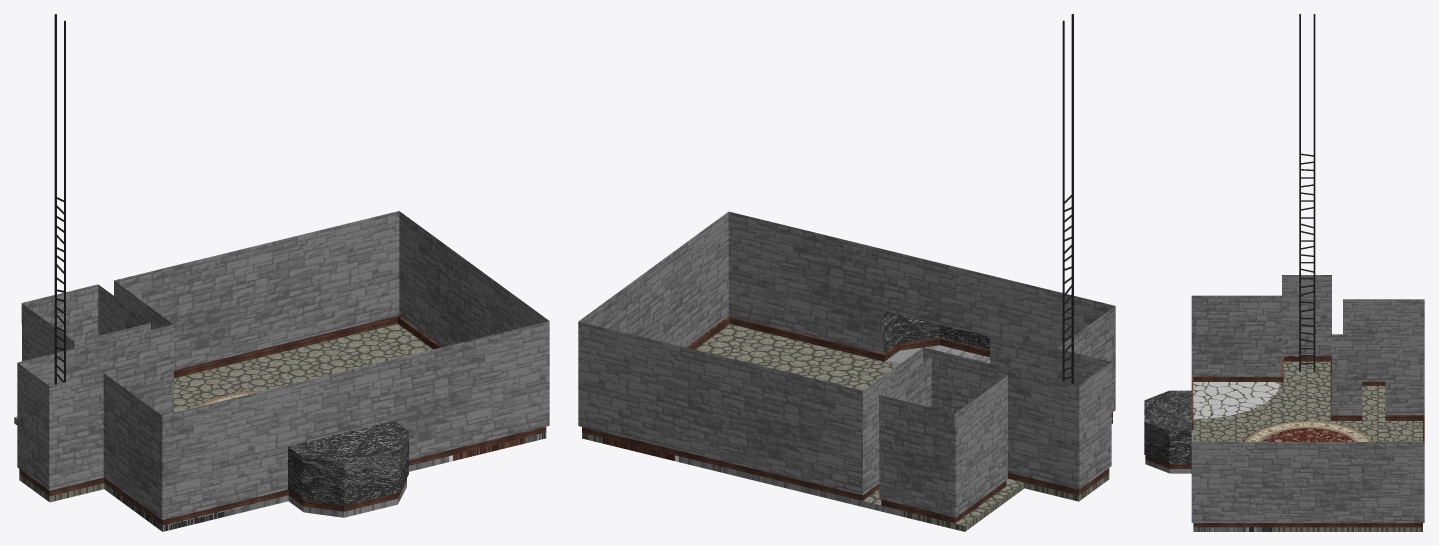
Rendered from Laboratory.fbx.
The picture shows the model from 3 angles, left to right: view 1: azimuth 30°, elevation 25°; view 2: azimuth 150°, elevation 25°; view 3: azimuth 270°, elevation 25°; orthographic projection. The views are drawn at different scales.
Parts seen in each view (by area): view 1: Lab2, ladder; view 2: Lab2, ladder; view 3: Lab2, ladder, polySurface10, Rug1.
Boxes of the visible parts, x1,y1,x2,y2 form: Lab2: (14,211,549,531); ladder: (54,14,65,384); Lab2: (578,211,1115,531); ladder: (1062,14,1073,383); Lab2: (1144,275,1424,531); ladder: (1299,14,1315,371); polySurface10: (1193,382,1279,418); Rug1: (1243,420,1372,441).
Size of the model in its own units: 110 by 111 by 77.97.
